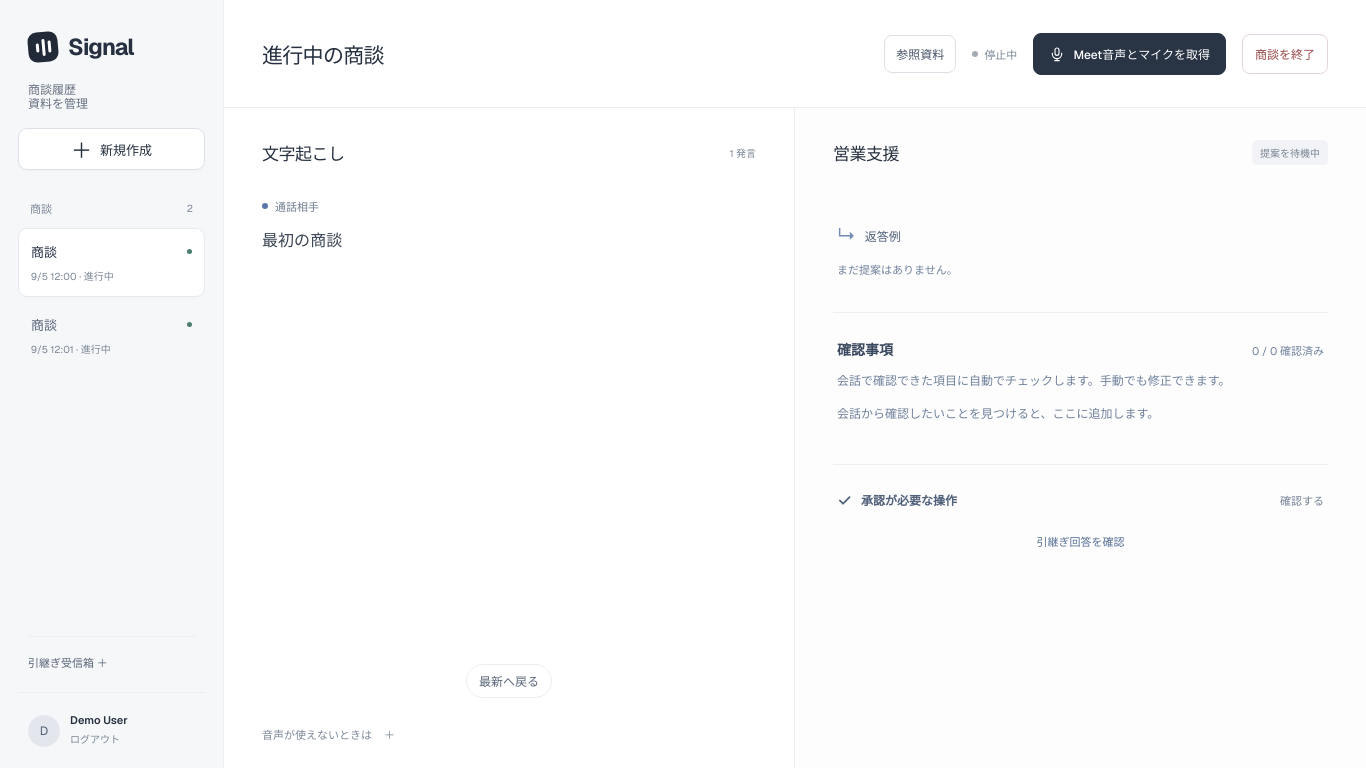
Test: authentication page › resets transcript follow when switching conversations
(page scrolled)
Check: the text "最初の商談" is shown, box [262,230,342,251]
Check: the button "最新へ戻る" is shown, box [466,664,552,698]
Click the button "商談 9/5 12:01 · 進行中": [112, 336] box [18,301,205,370]
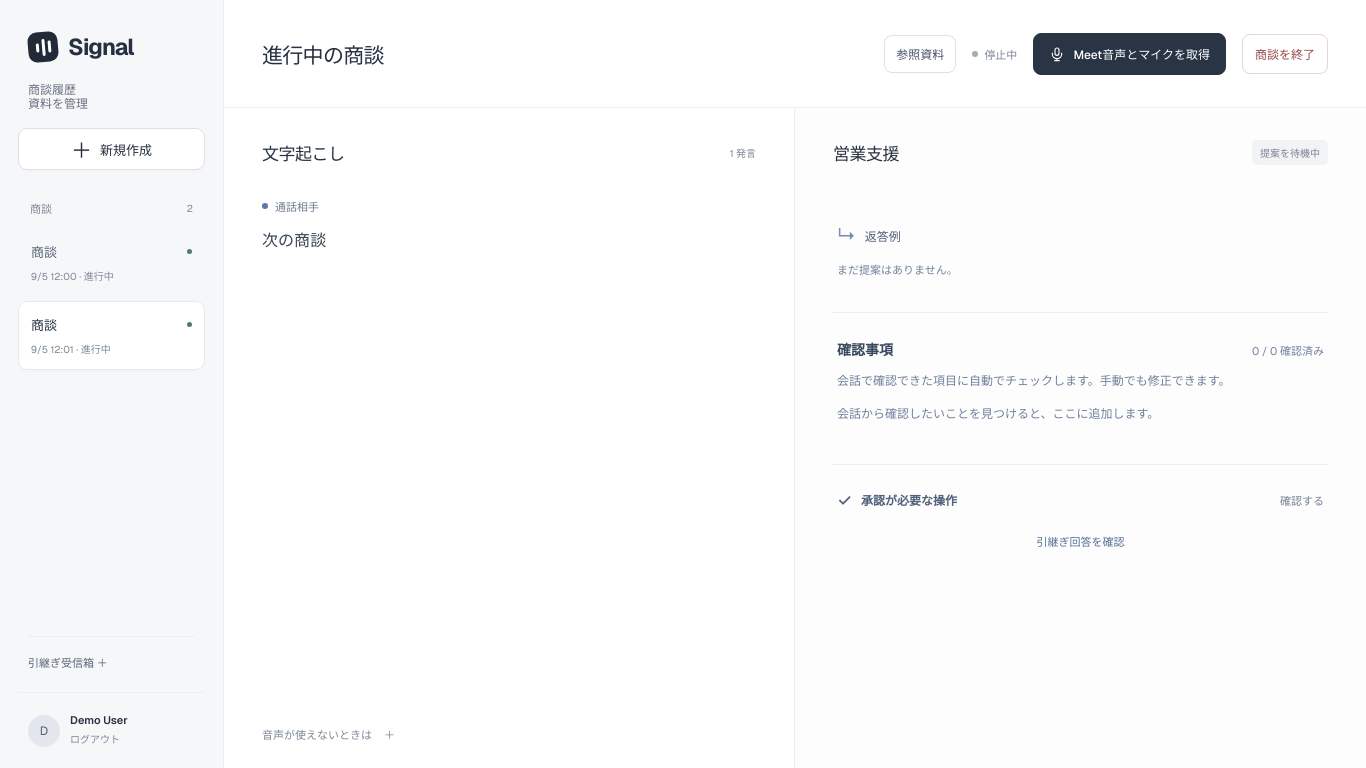
Check: the text "次の商談" is shown, box [262,230,326,251]
Check: the button "最新へ戻る" is gone
